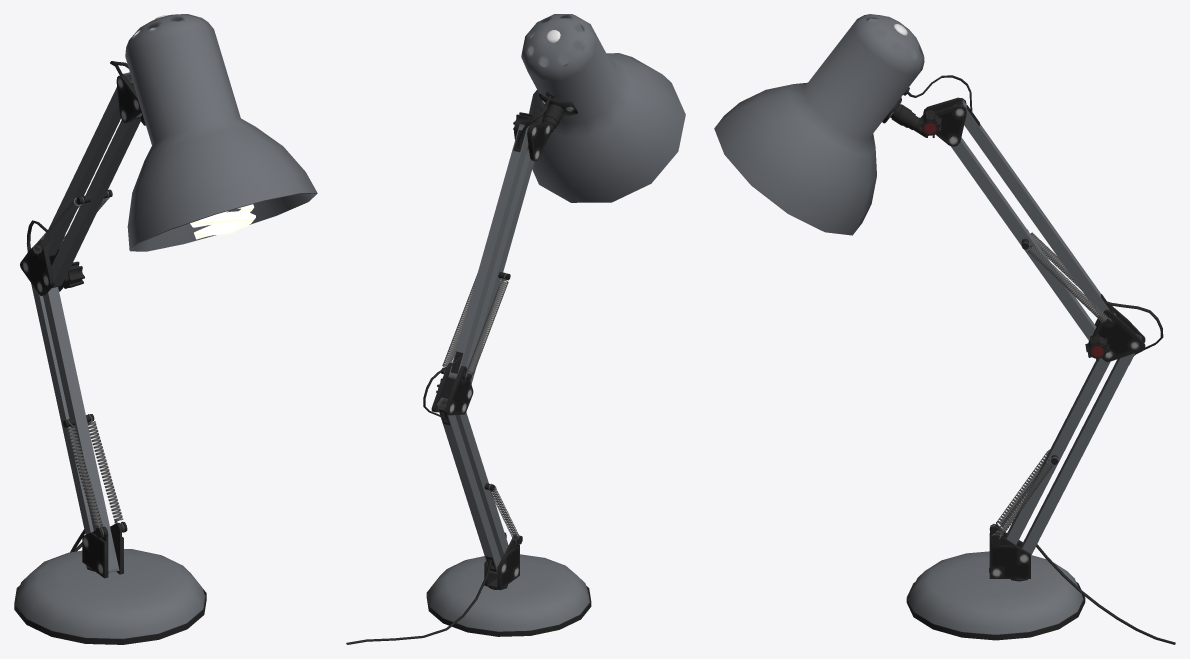
File: desk-lamp.glb
3 views of the same model, side by side, from view 1: azimuth 30°, elevation 25°; view 2: azimuth 150°, elevation 25°; view 3: azimuth 270°, elevation 25° (orthographic). The views are drawn at different scales.
Parts seen in each view (by area): view 1: LP_01_base_0.001, Cylinder001_lamp_base_0.001, Box060_lamp_base_0.001, Box009_lamp_base_0.001, LP01_lamp_base_0.001, Box055_lamp_base_0.001, LP01_lowpart_lamp_base_0.001, Cylinder002_lamp_base_0.001, Helix007_lamp_0.001, Plane009_lamp_base_0.001, Cylinder070_base_0.001, Cylinder079_base_0.001 (+2 smaller); view 2: LP_01_base_0.001, Cylinder001_lamp_base_0.001, LP01_lamp_base_0.001, Box055_lamp_base_0.001, Box009_lamp_base_0.001, Box060_lamp_base_0.001, LP01_lowpart_lamp_base_0.001, Cylinder002_lamp_base_0.001, Plane009_lamp_base_0.001, Cylinder069_base_0.001, Cylinder018_lamp_base_0.001, Line012_plastik_0.001 (+1 smaller); view 3: LP_01_base_0.001, Cylinder001_lamp_base_0.001, LP01_lamp_base_0.001, Box009_lamp_base_0.001, Box055_lamp_base_0.001, Box060_lamp_base_0.001, LP01_lowpart_lamp_base_0.001, Plane013_lamp_base_0.001, Cylinder002_lamp_base_0.001, Cylinder071_lamp_base_0.001, Cylinder077_base_0.001, Cylinder079_base_0.001.
Part boxes in pixels (x1=…): LP_01_base_0.001: x1=125, y1=14, x2=317, y2=251; Cylinder001_lamp_base_0.001: x1=16, y1=549, x2=205, y2=638; Box060_lamp_base_0.001: x1=43, y1=287, x2=119, y2=573; Box009_lamp_base_0.001: x1=51, y1=113, x2=141, y2=288; LP01_lamp_base_0.001: x1=44, y1=72, x2=134, y2=256; Box055_lamp_base_0.001: x1=31, y1=283, x2=93, y2=534; LP01_lowpart_lamp_base_0.001: x1=82, y1=521, x2=127, y2=578; Cylinder002_lamp_base_0.001: x1=14, y1=585, x2=206, y2=644; Helix007_lamp_0.001: x1=190, y1=204, x2=255, y2=239; Plane009_lamp_base_0.001: x1=20, y1=240, x2=54, y2=295; Cylinder070_base_0.001: x1=66, y1=426, x2=102, y2=526; Cylinder079_base_0.001: x1=88, y1=421, x2=123, y2=520; LP_01_base_0.001: x1=521, y1=14, x2=685, y2=202; Cylinder001_lamp_base_0.001: x1=428, y1=554, x2=589, y2=631; LP01_lamp_base_0.001: x1=448, y1=124, x2=528, y2=379; Box055_lamp_base_0.001: x1=437, y1=397, x2=500, y2=574; Box009_lamp_base_0.001: x1=466, y1=149, x2=534, y2=383; Box060_lamp_base_0.001: x1=455, y1=412, x2=508, y2=559; LP01_lowpart_lamp_base_0.001: x1=484, y1=532, x2=522, y2=589; Cylinder002_lamp_base_0.001: x1=426, y1=586, x2=591, y2=636; Plane009_lamp_base_0.001: x1=444, y1=366, x2=473, y2=415; Cylinder069_base_0.001: x1=467, y1=279, x2=508, y2=373; Cylinder018_lamp_base_0.001: x1=527, y1=122, x2=550, y2=161; Line012_plastik_0.001: x1=346, y1=559, x2=491, y2=644; LP_01_base_0.001: x1=714, y1=14, x2=924, y2=235; Cylinder001_lamp_base_0.001: x1=908, y1=551, x2=1083, y2=634; LP01_lamp_base_0.001: x1=953, y1=100, x2=1116, y2=315; Box009_lamp_base_0.001: x1=950, y1=137, x2=1096, y2=340; Box055_lamp_base_0.001: x1=1020, y1=334, x2=1141, y2=555; Box060_lamp_base_0.001: x1=989, y1=358, x2=1110, y2=572; LP01_lowpart_lamp_base_0.001: x1=989, y1=524, x2=1030, y2=578; Plane013_lamp_base_0.001: x1=1092, y1=309, x2=1145, y2=362; Cylinder002_lamp_base_0.001: x1=906, y1=582, x2=1085, y2=640; Cylinder071_lamp_base_0.001: x1=931, y1=104, x2=966, y2=146; Cylinder077_base_0.001: x1=1027, y1=245, x2=1107, y2=322; Cylinder079_base_0.001: x1=996, y1=461, x2=1053, y2=536.
Size of the model in its own units: 0.6405 by 2.19 by 1.56.
Materials: 4 (4 with a texture image).
